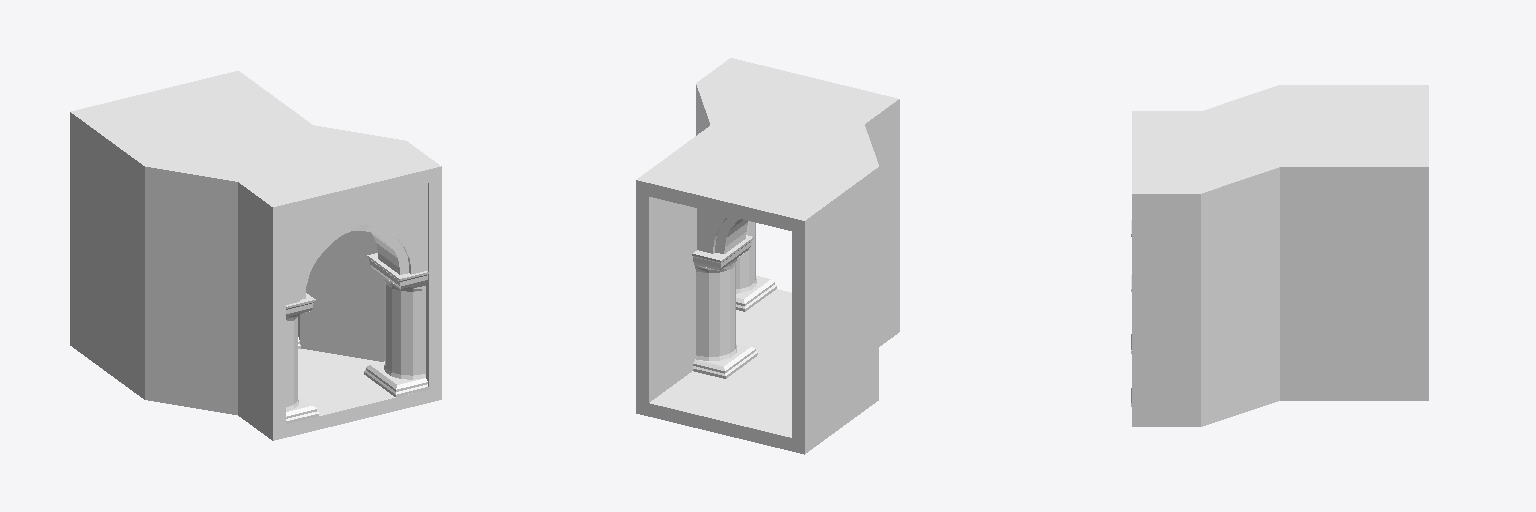
File: templepieceB.obj
3 views of the same model, side by side, from view 1: azimuth 30°, elevation 25°; view 2: azimuth 150°, elevation 25°; view 3: azimuth 270°, elevation 25° (orthographic).
Parts seen in each view (by area): view 1: TemplePieceB; view 2: TemplePieceB; view 3: TemplePieceB.
Part boxes in pixels (x1,y1,x2,y2): TemplePieceB: (70, 71, 441, 440); TemplePieceB: (636, 58, 899, 454); TemplePieceB: (1131, 85, 1428, 426).
Bounding box in the file's own units: 286 × 287 × 332.